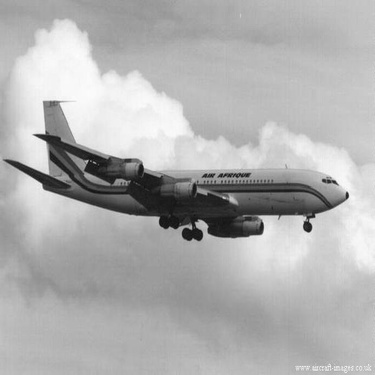airplane: (1, 93, 356, 247)
